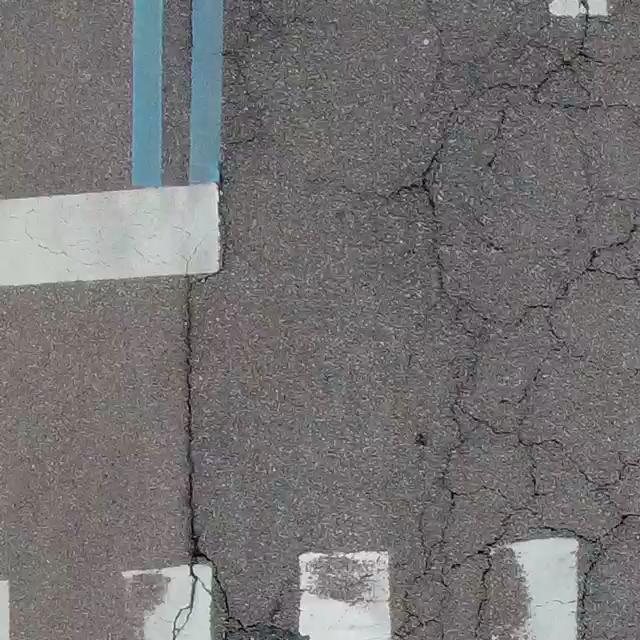GRIETA: (184, 276, 209, 566)
PIEL DE COCODRILO: (382, 0, 639, 639), (181, 0, 308, 229), (155, 558, 320, 639)
